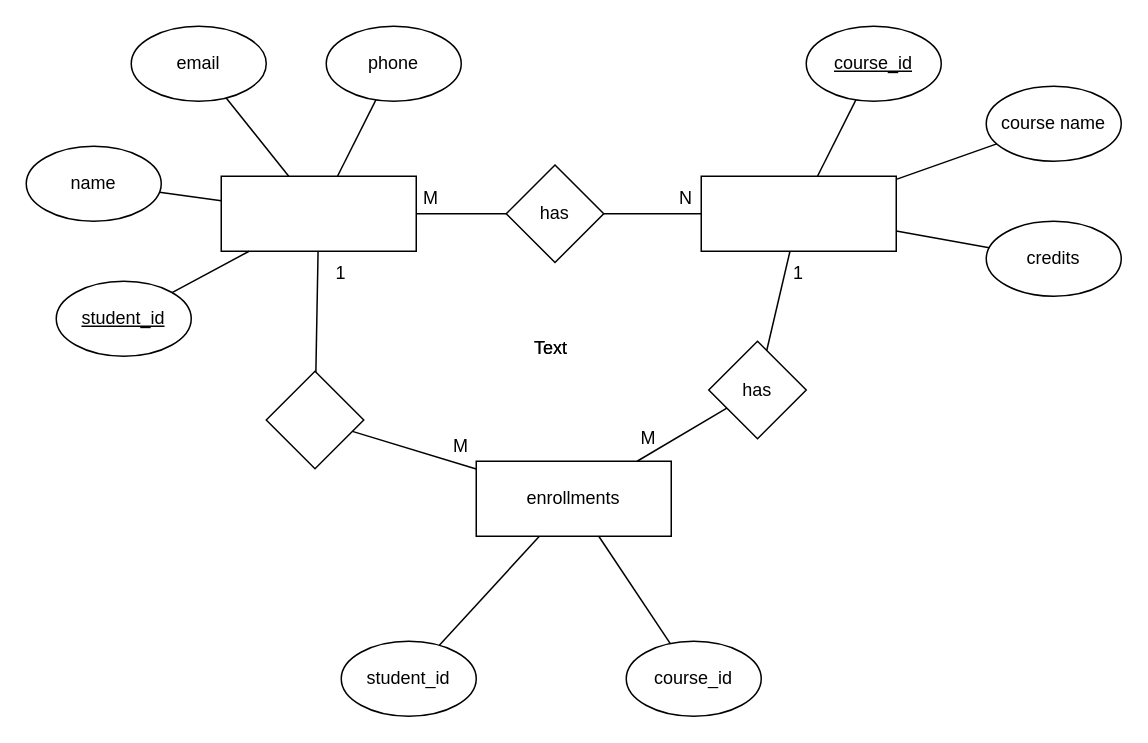
Image size: 1148x743. Some labels were removed from this diagram. Here are the shapes that lost their labels. From the top down, the centre of each, then its label:
(x=318, y=213): student
(x=798, y=213): course
(x=314, y=419): can
